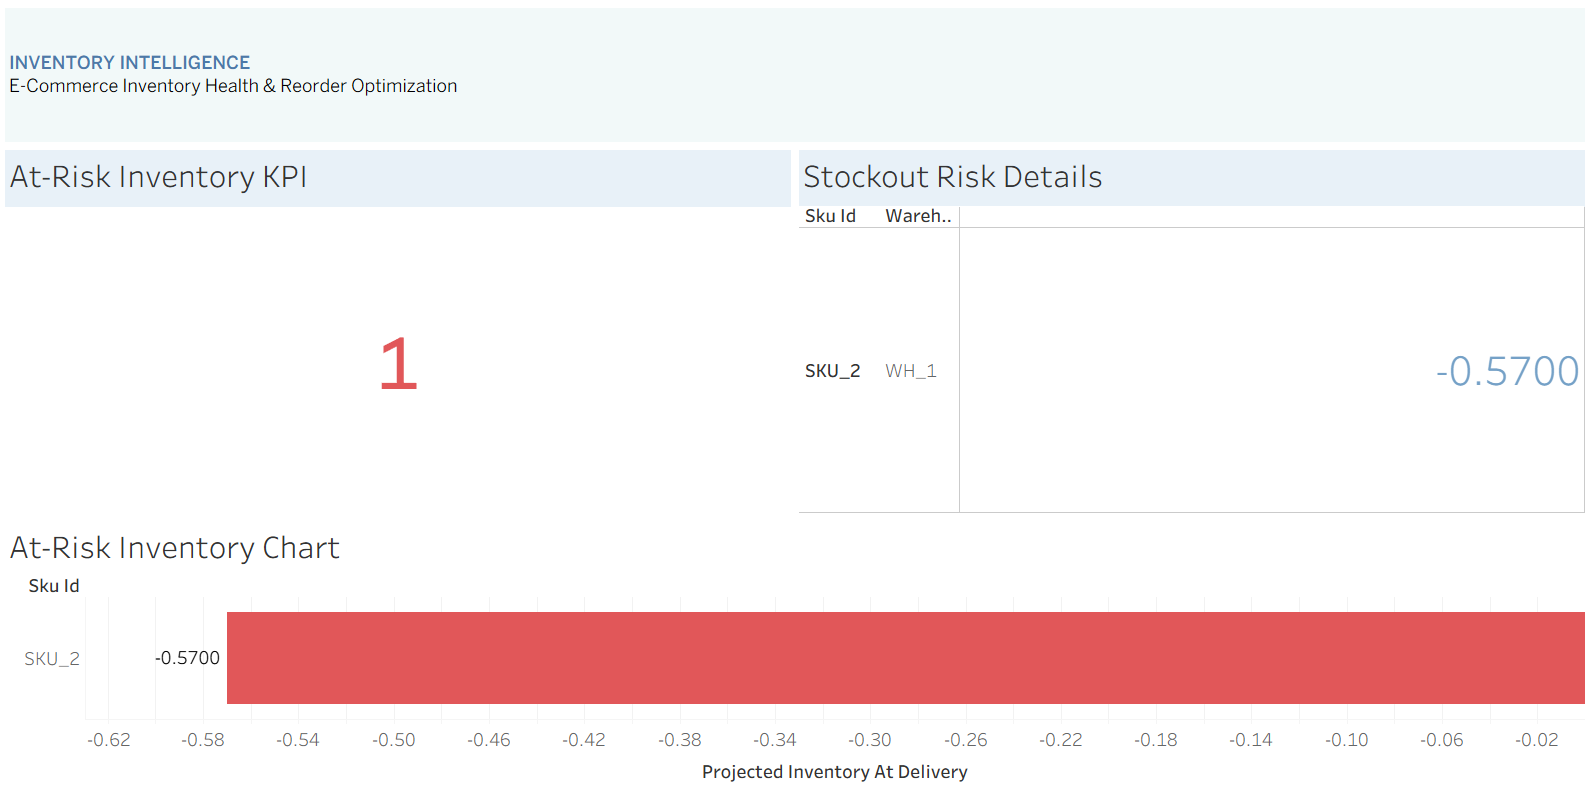

What the dashboard file says about the page in this screenshot:
{"tool":"tableau","page":{"name":"Inventory Health Dashboard","canvas":[1000,1000],"units":"permille","ordinal":0},"visuals":[{"type":"text","box":[7.1,12.5,985.8,175.3]},{"type":"worksheet","title":"At-Risk Inventory KPI","mark":"Automatic","box":[7.1,187.7,492.9,457.9]},{"type":"worksheet","title":"Stockout Risk Details","mark":"Automatic","rows":["SKU_ID","Warehouse_ID"],"box":[500,187.7,492.9,457.9]},{"type":"worksheet","title":"At-Risk Inventory Chart","mark":"Automatic","rows":["SKU_ID"],"cols":["Projected_Inventory_At_Delivery"],"box":[7.1,645.6,985.8,341.9]}]}

Visuals, with their boxes on the dashboard's canvas, which has no fixed pixel size, in thousandths of its width and height (x1, y1, x2, y2). These are canvas units, not pixel positions in the 1591x795 screenshot, which may show the page scaled, cropped or inside an application window:
text: region(7, 12, 993, 188)
"At-Risk Inventory KPI" worksheet: region(7, 188, 500, 646)
"Stockout Risk Details" worksheet: region(500, 188, 993, 646)
"At-Risk Inventory Chart" worksheet: region(7, 646, 993, 988)
